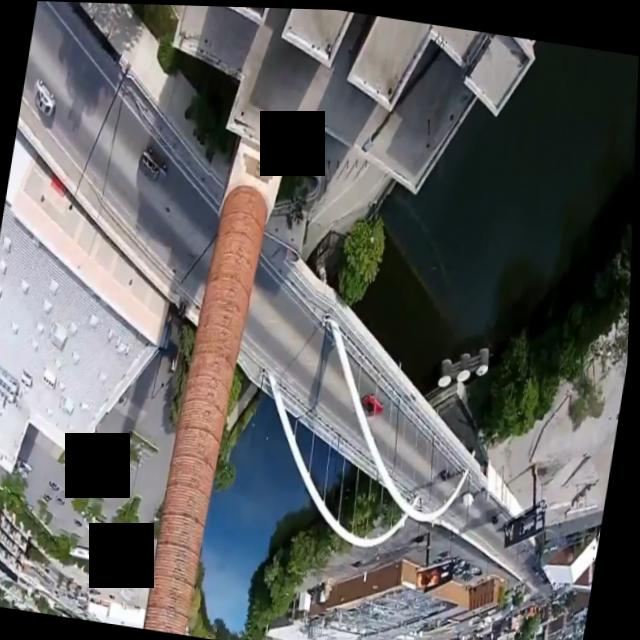Building: (143, 152, 271, 636)
